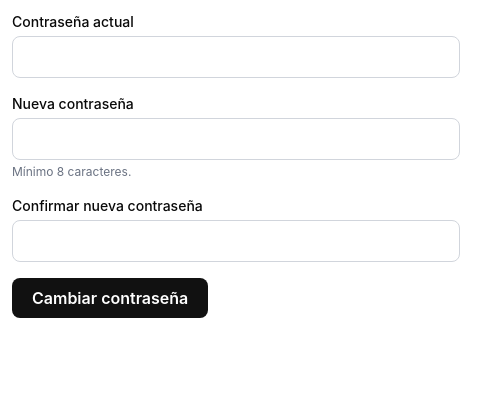
ChangePasswordForm › si no se pudo conservar esta sesión, avisa de que hay que volver a entrar
In the password field labelled "Contraseña actual": (236, 57) x1=12 y1=36 x2=460 y2=78, type "contraseña-vieja"
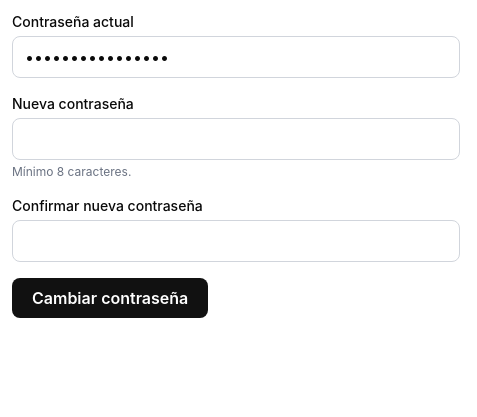
In the password field labelled "Nueva contraseña": (236, 139) x1=12 y1=118 x2=460 y2=160, type "contraseña-nueva-123"
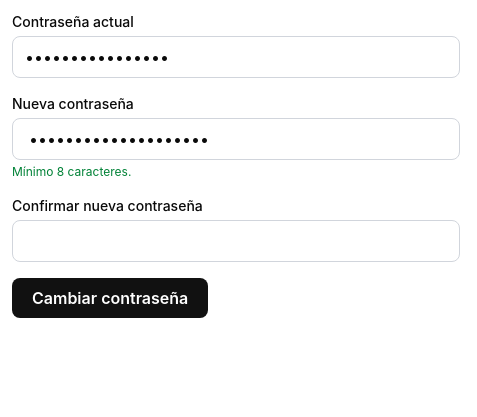
In the password field labelled "Confirmar nueva contraseña": (236, 241) x1=12 y1=220 x2=460 y2=262, type "contraseña-nueva-123"
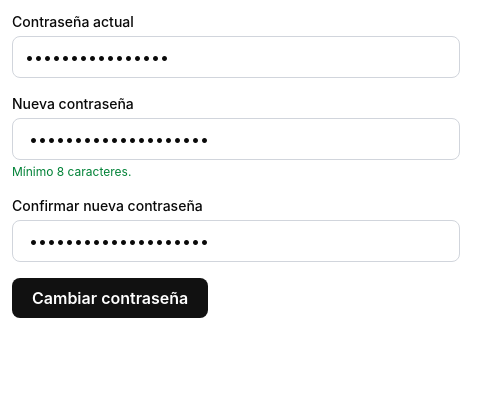
Submit the form
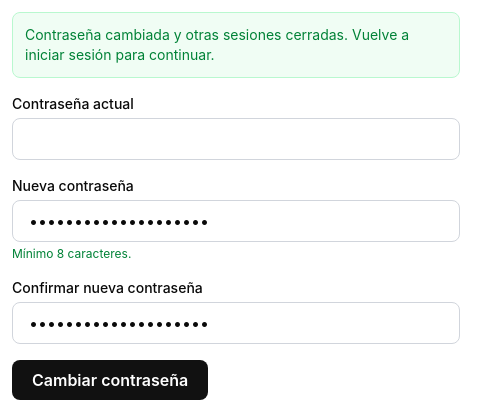
Now the text "Contraseña cambiada y otras sesiones cerradas. Vuelve a iniciar sesión para continuar." is shown, box x1=25 y1=26 x2=409 y2=63
